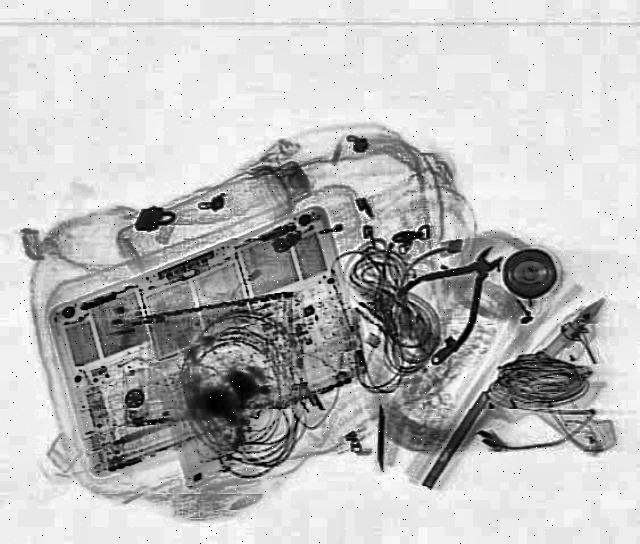Pliers: (378, 228, 536, 354)
